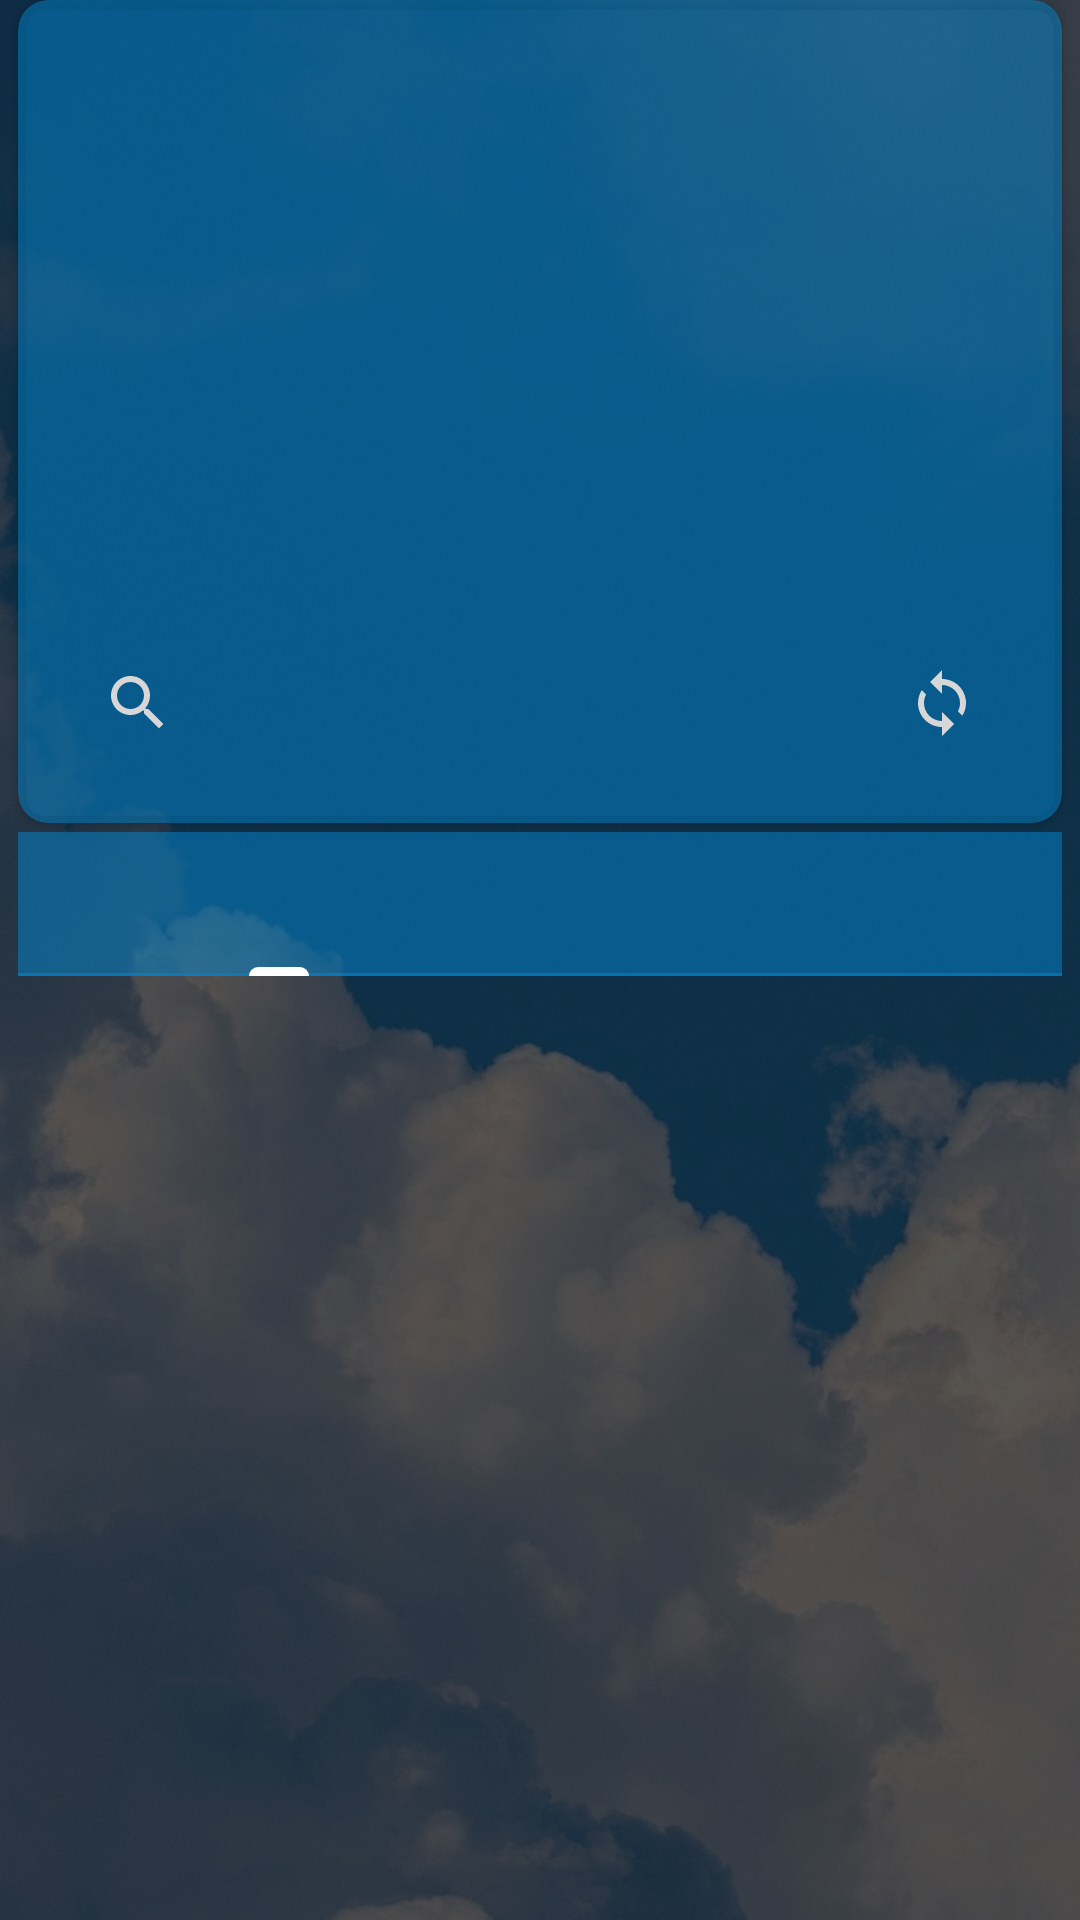

Locate icon controls on the screen. Image size 1080x1920, boxes as box=[x1, y1, x2, y2].
Refresh: box=[918, 670, 966, 736]
Search: box=[111, 676, 163, 728]
